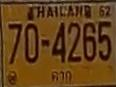0: (24, 23, 38, 62)
2: (67, 22, 82, 61)
4: (51, 22, 65, 62)
5: (98, 21, 112, 60)
6: (82, 22, 96, 60)
7: (8, 23, 21, 61)
TAK: (48, 69, 73, 82)
